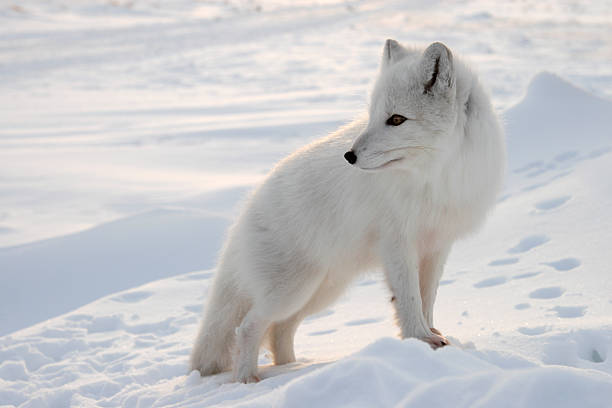arcticfox: (348, 58, 443, 206)
